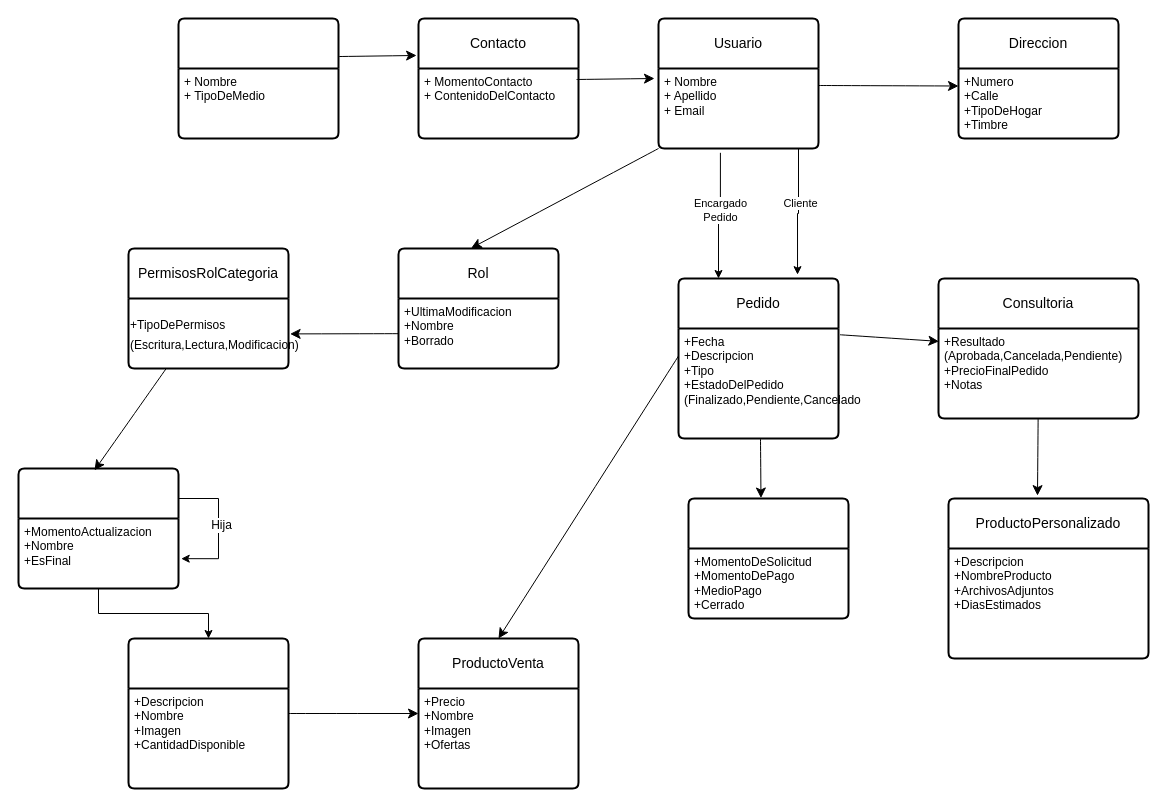
This 1166x806 diagram has some shape labels left out. Each missing label, with the box of its shape:
CategoriaStockFabrica: (17, 467, 179, 589)
MedioContacto: (177, 17, 339, 139)
ProductoStock: (127, 637, 289, 789)
SolicitudPago: (687, 497, 849, 619)
